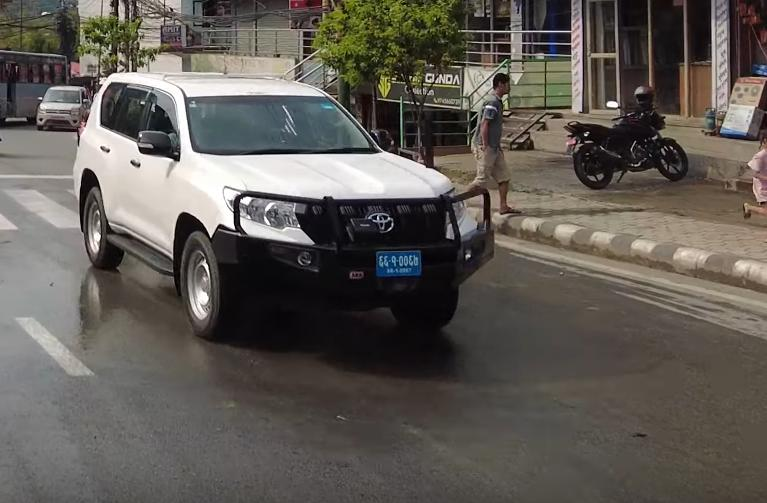SUV: (61, 57, 520, 355)
bike: (564, 100, 693, 193)
car: (38, 86, 92, 133)
